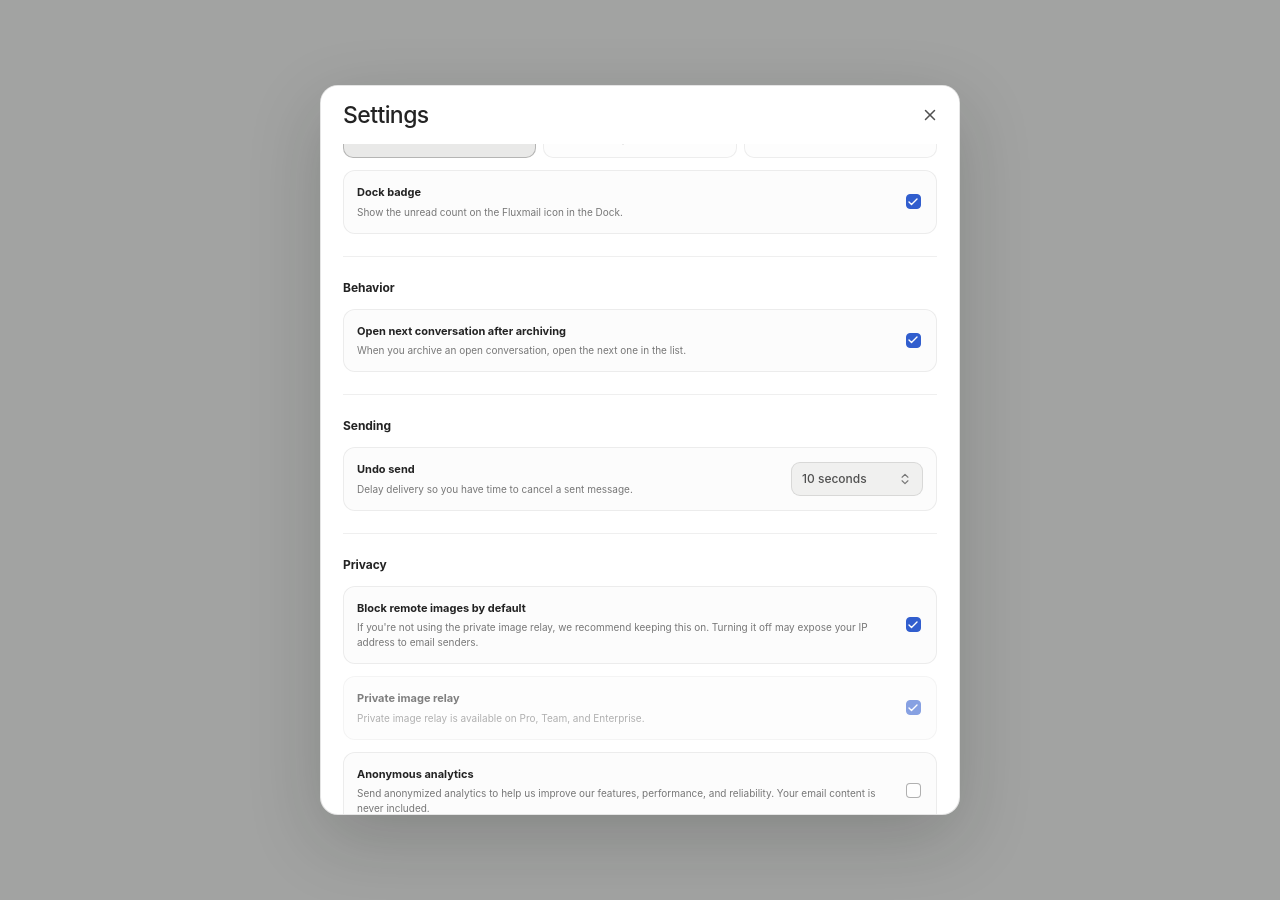
Test: SettingsDialog undo send › can turn undo send off
(page scrolled)
Click the button with aria-label "Undo send" at (857, 479), box [791,462,923,496]
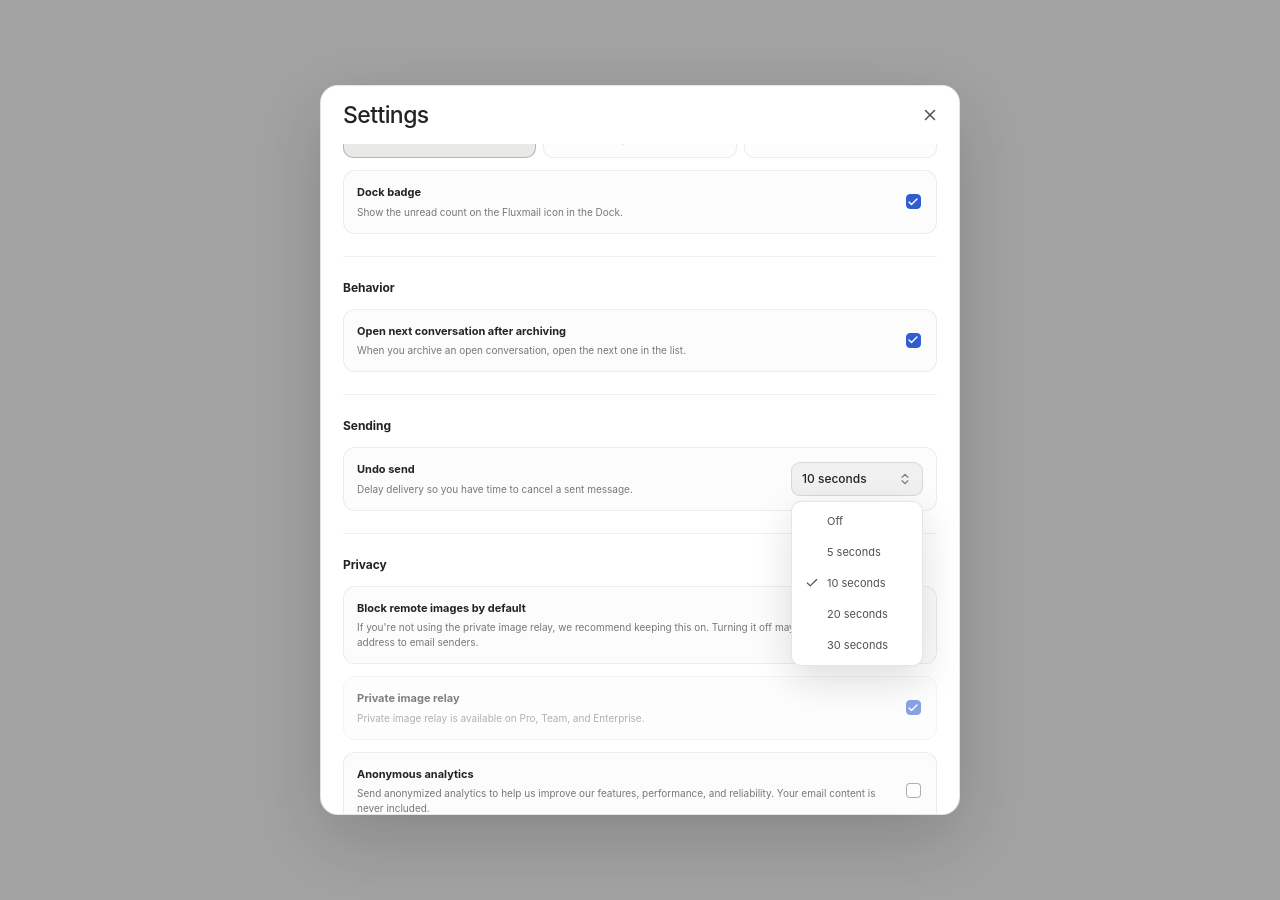
Click the menu item "Off" at (857, 521), box [796,506,918,537]
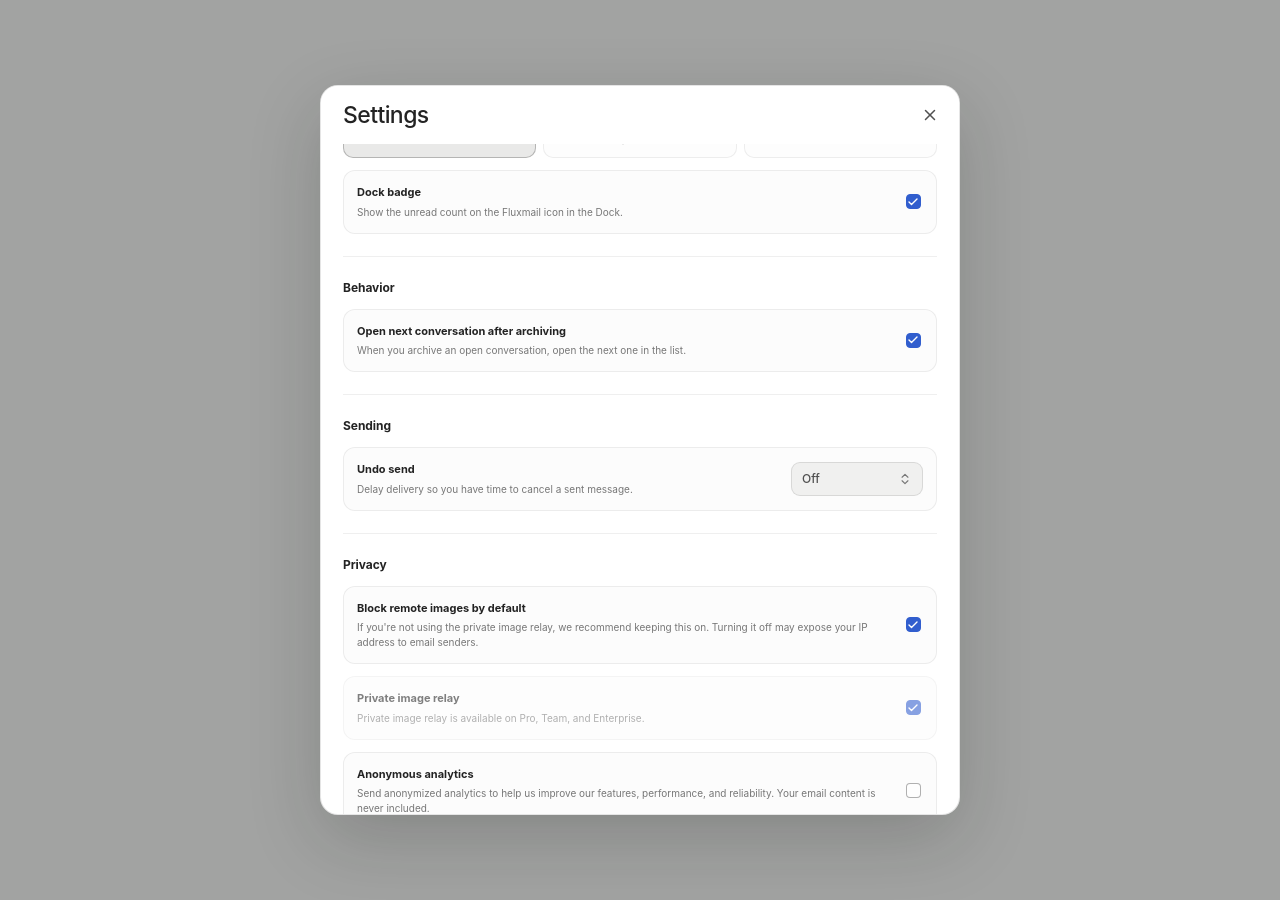
Now the button with aria-label "Undo send" reads "Off", box [791,462,923,496]
